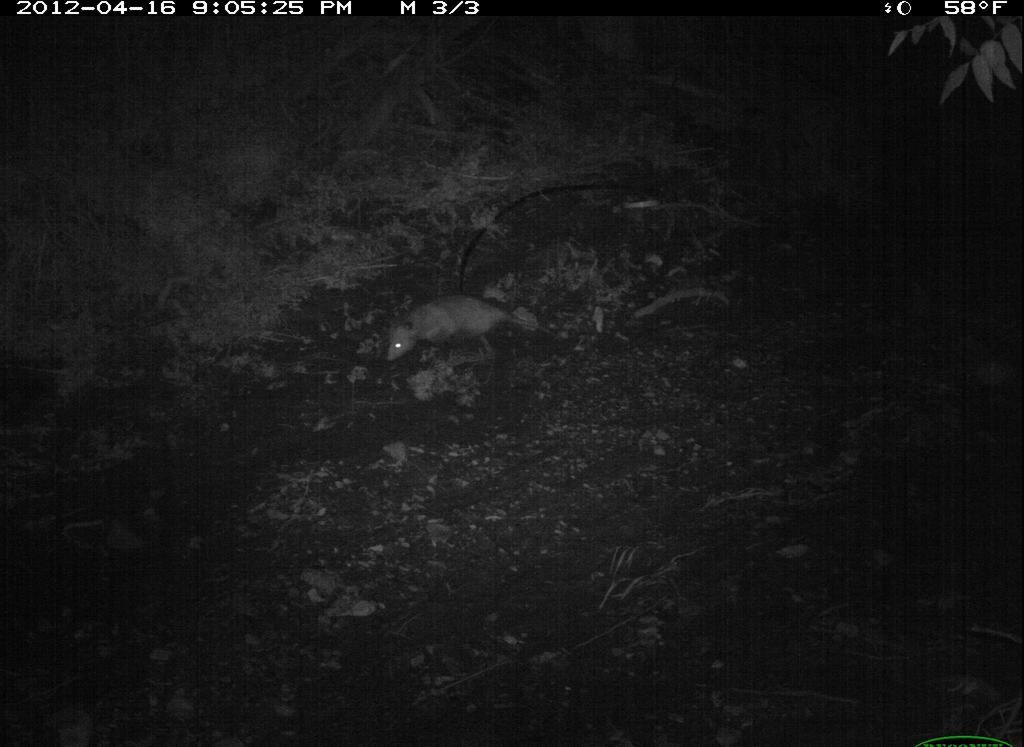opossum: (373, 283, 564, 370)
